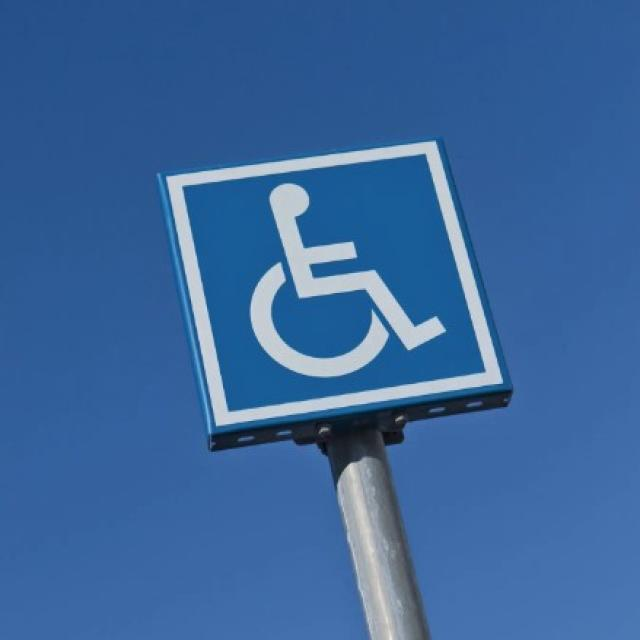symbol_of_access: (157, 135, 513, 449)
